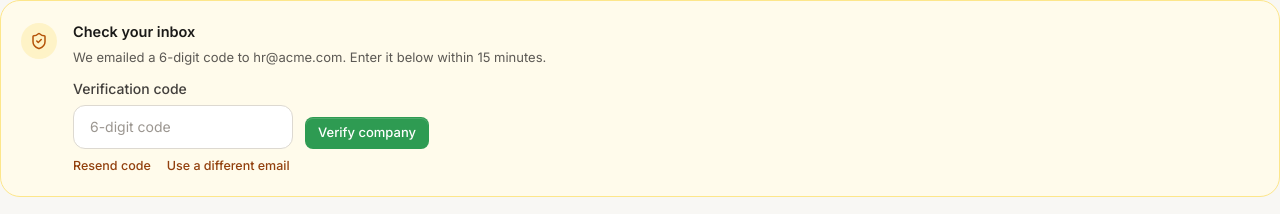
Test: VerifyCompanyBanner — OTP step › can switch back to the email form
Click the button "Use a different email" at (228, 166), box x1=167 y1=157 x2=290 y2=176
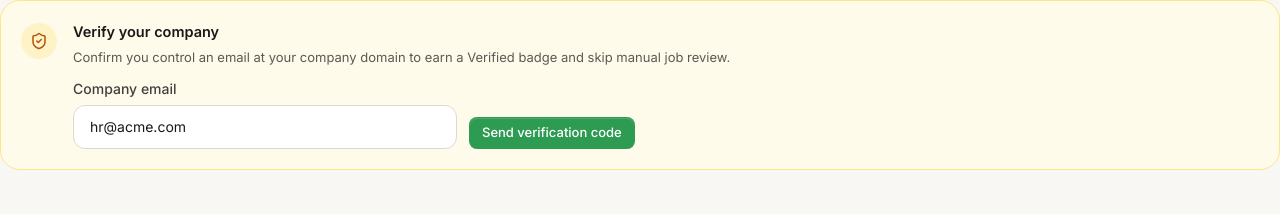
Expected: the field labelled "Company email" is shown, x1=73 y1=105 x2=457 y2=149
